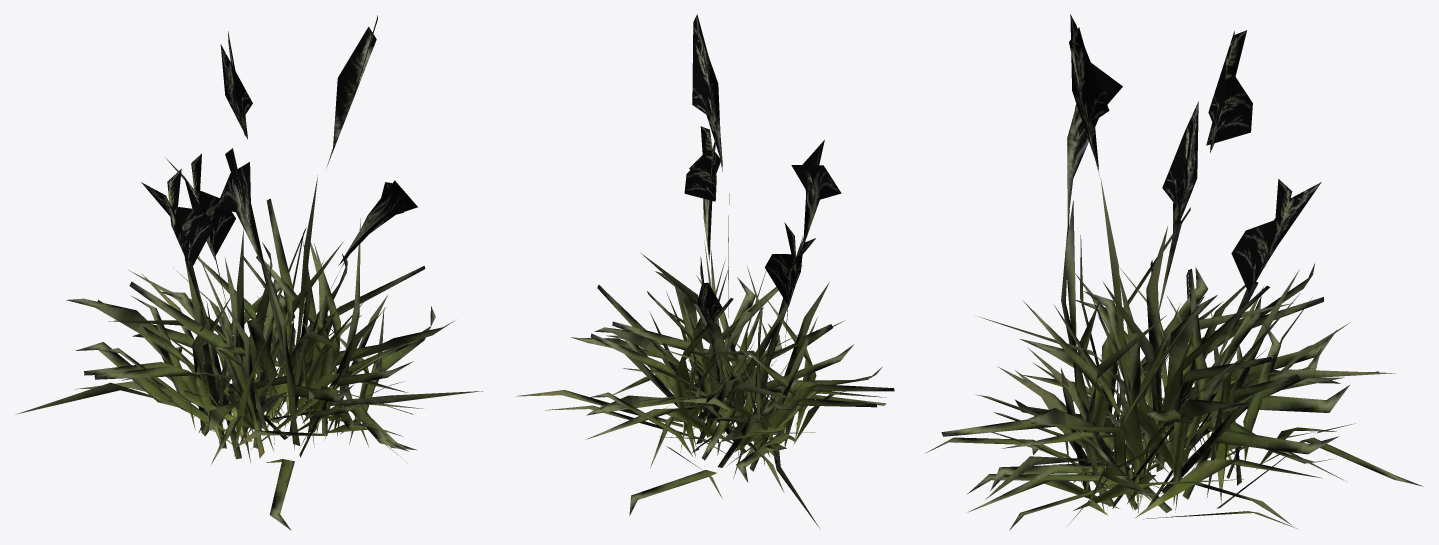
The model's file is plante_herbe.glb.
3 views of the same model, side by side, from view 1: azimuth 30°, elevation 25°; view 2: azimuth 150°, elevation 25°; view 3: azimuth 270°, elevation 25° (orthographic). The views are drawn at different scales.
Parts seen in each view (by area): view 1: grass_medium_01_mid_a_LOD0; view 2: grass_medium_01_mid_a_LOD0; view 3: grass_medium_01_mid_a_LOD0.
Part boxes in pixels (box(x1,y1,x2,y2)): grass_medium_01_mid_a_LOD0: box(15, 15, 482, 530); grass_medium_01_mid_a_LOD0: box(516, 14, 894, 528); grass_medium_01_mid_a_LOD0: box(925, 14, 1423, 530).
Size of the model in its own units: 0.1706 by 0.1996 by 0.1721.
Materials: 1 (1 with a texture image).
